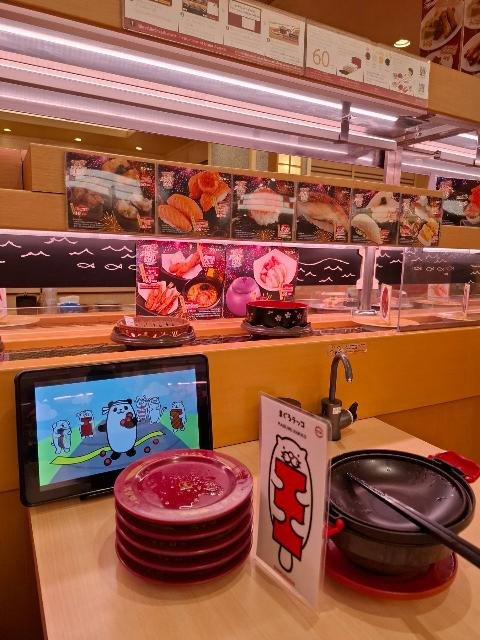janred: (100, 264, 283, 382), (308, 558, 480, 638), (86, 551, 319, 606), (223, 273, 329, 371), (117, 469, 250, 529), (101, 509, 252, 545), (108, 524, 244, 561)
